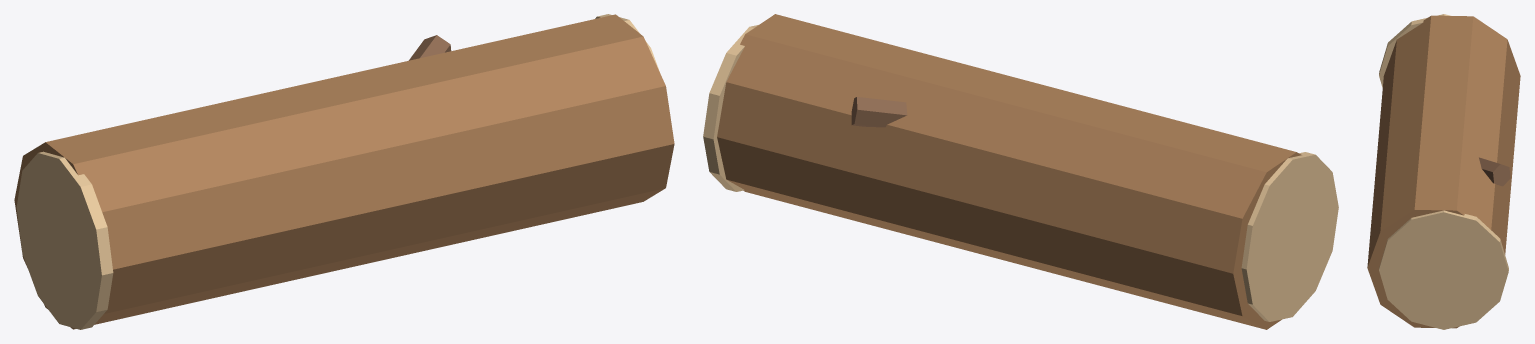
Rendered from stump_log_02.glb.
The picture shows the model from 3 angles, left to right: view 1: azimuth 30°, elevation 25°; view 2: azimuth 150°, elevation 25°; view 3: azimuth 270°, elevation 25°; orthographic projection. The views are drawn at different scales.
Parts seen in each view (by area): view 1: stump_log_02; view 2: stump_log_02; view 3: stump_log_02.
Part boxes in pixels (box(x1,y1,x2,y2)): stump_log_02: box(14, 14, 674, 329); stump_log_02: box(703, 14, 1338, 329); stump_log_02: box(1367, 14, 1520, 329).
Size of the model in its own units: 1.8 by 0.4945 by 0.5829.
